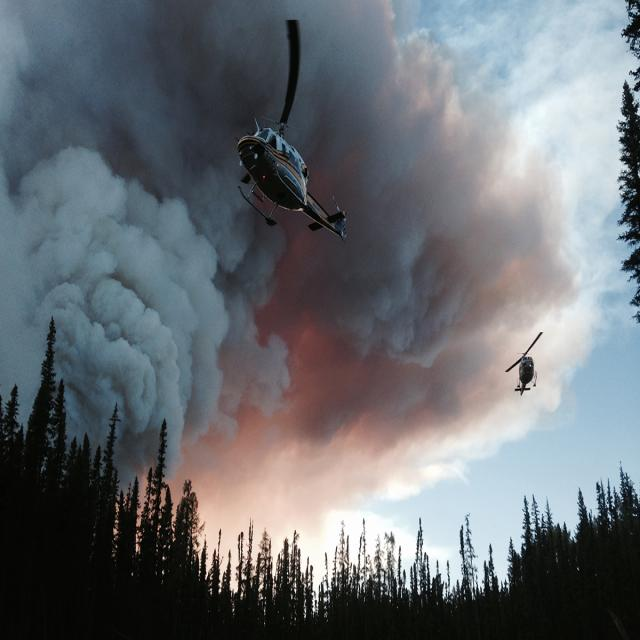Smoke: (270, 0, 518, 434), (6, 0, 253, 430)
